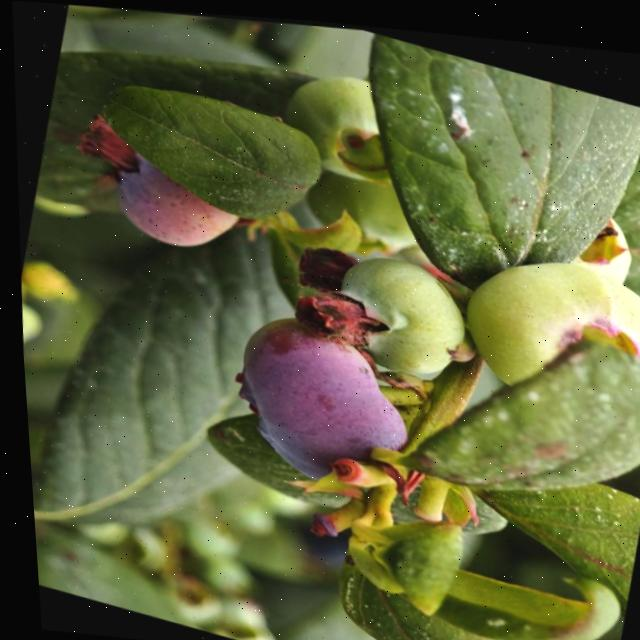Semi-RipeBlueBerry: (207, 292, 428, 500), (88, 123, 249, 260)
UnripeBlueBerry: (439, 221, 640, 424), (310, 232, 476, 381)
